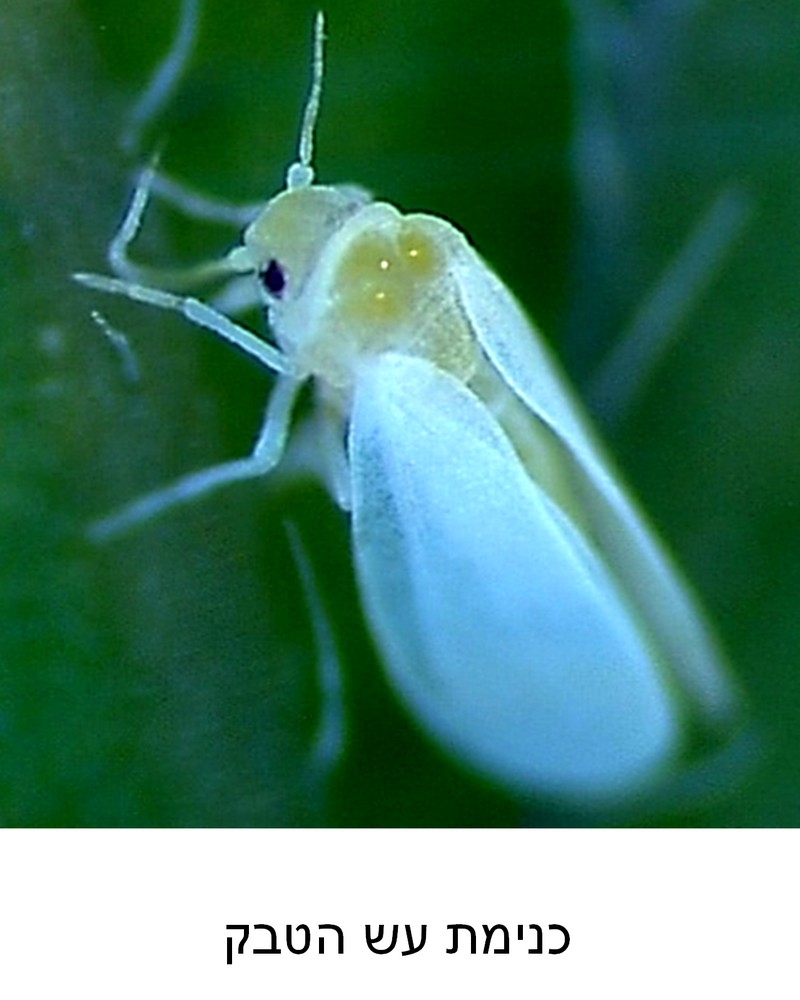Mosca Blanca: (92, 29, 760, 810)
